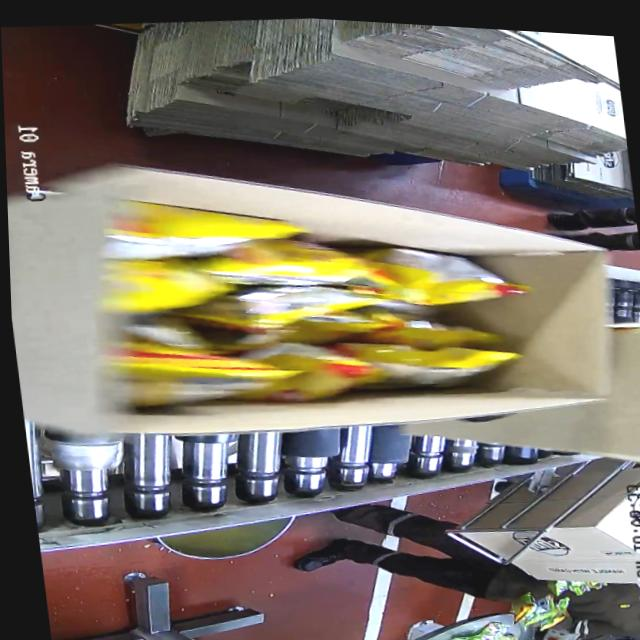SALTED: (107, 176, 534, 437)
